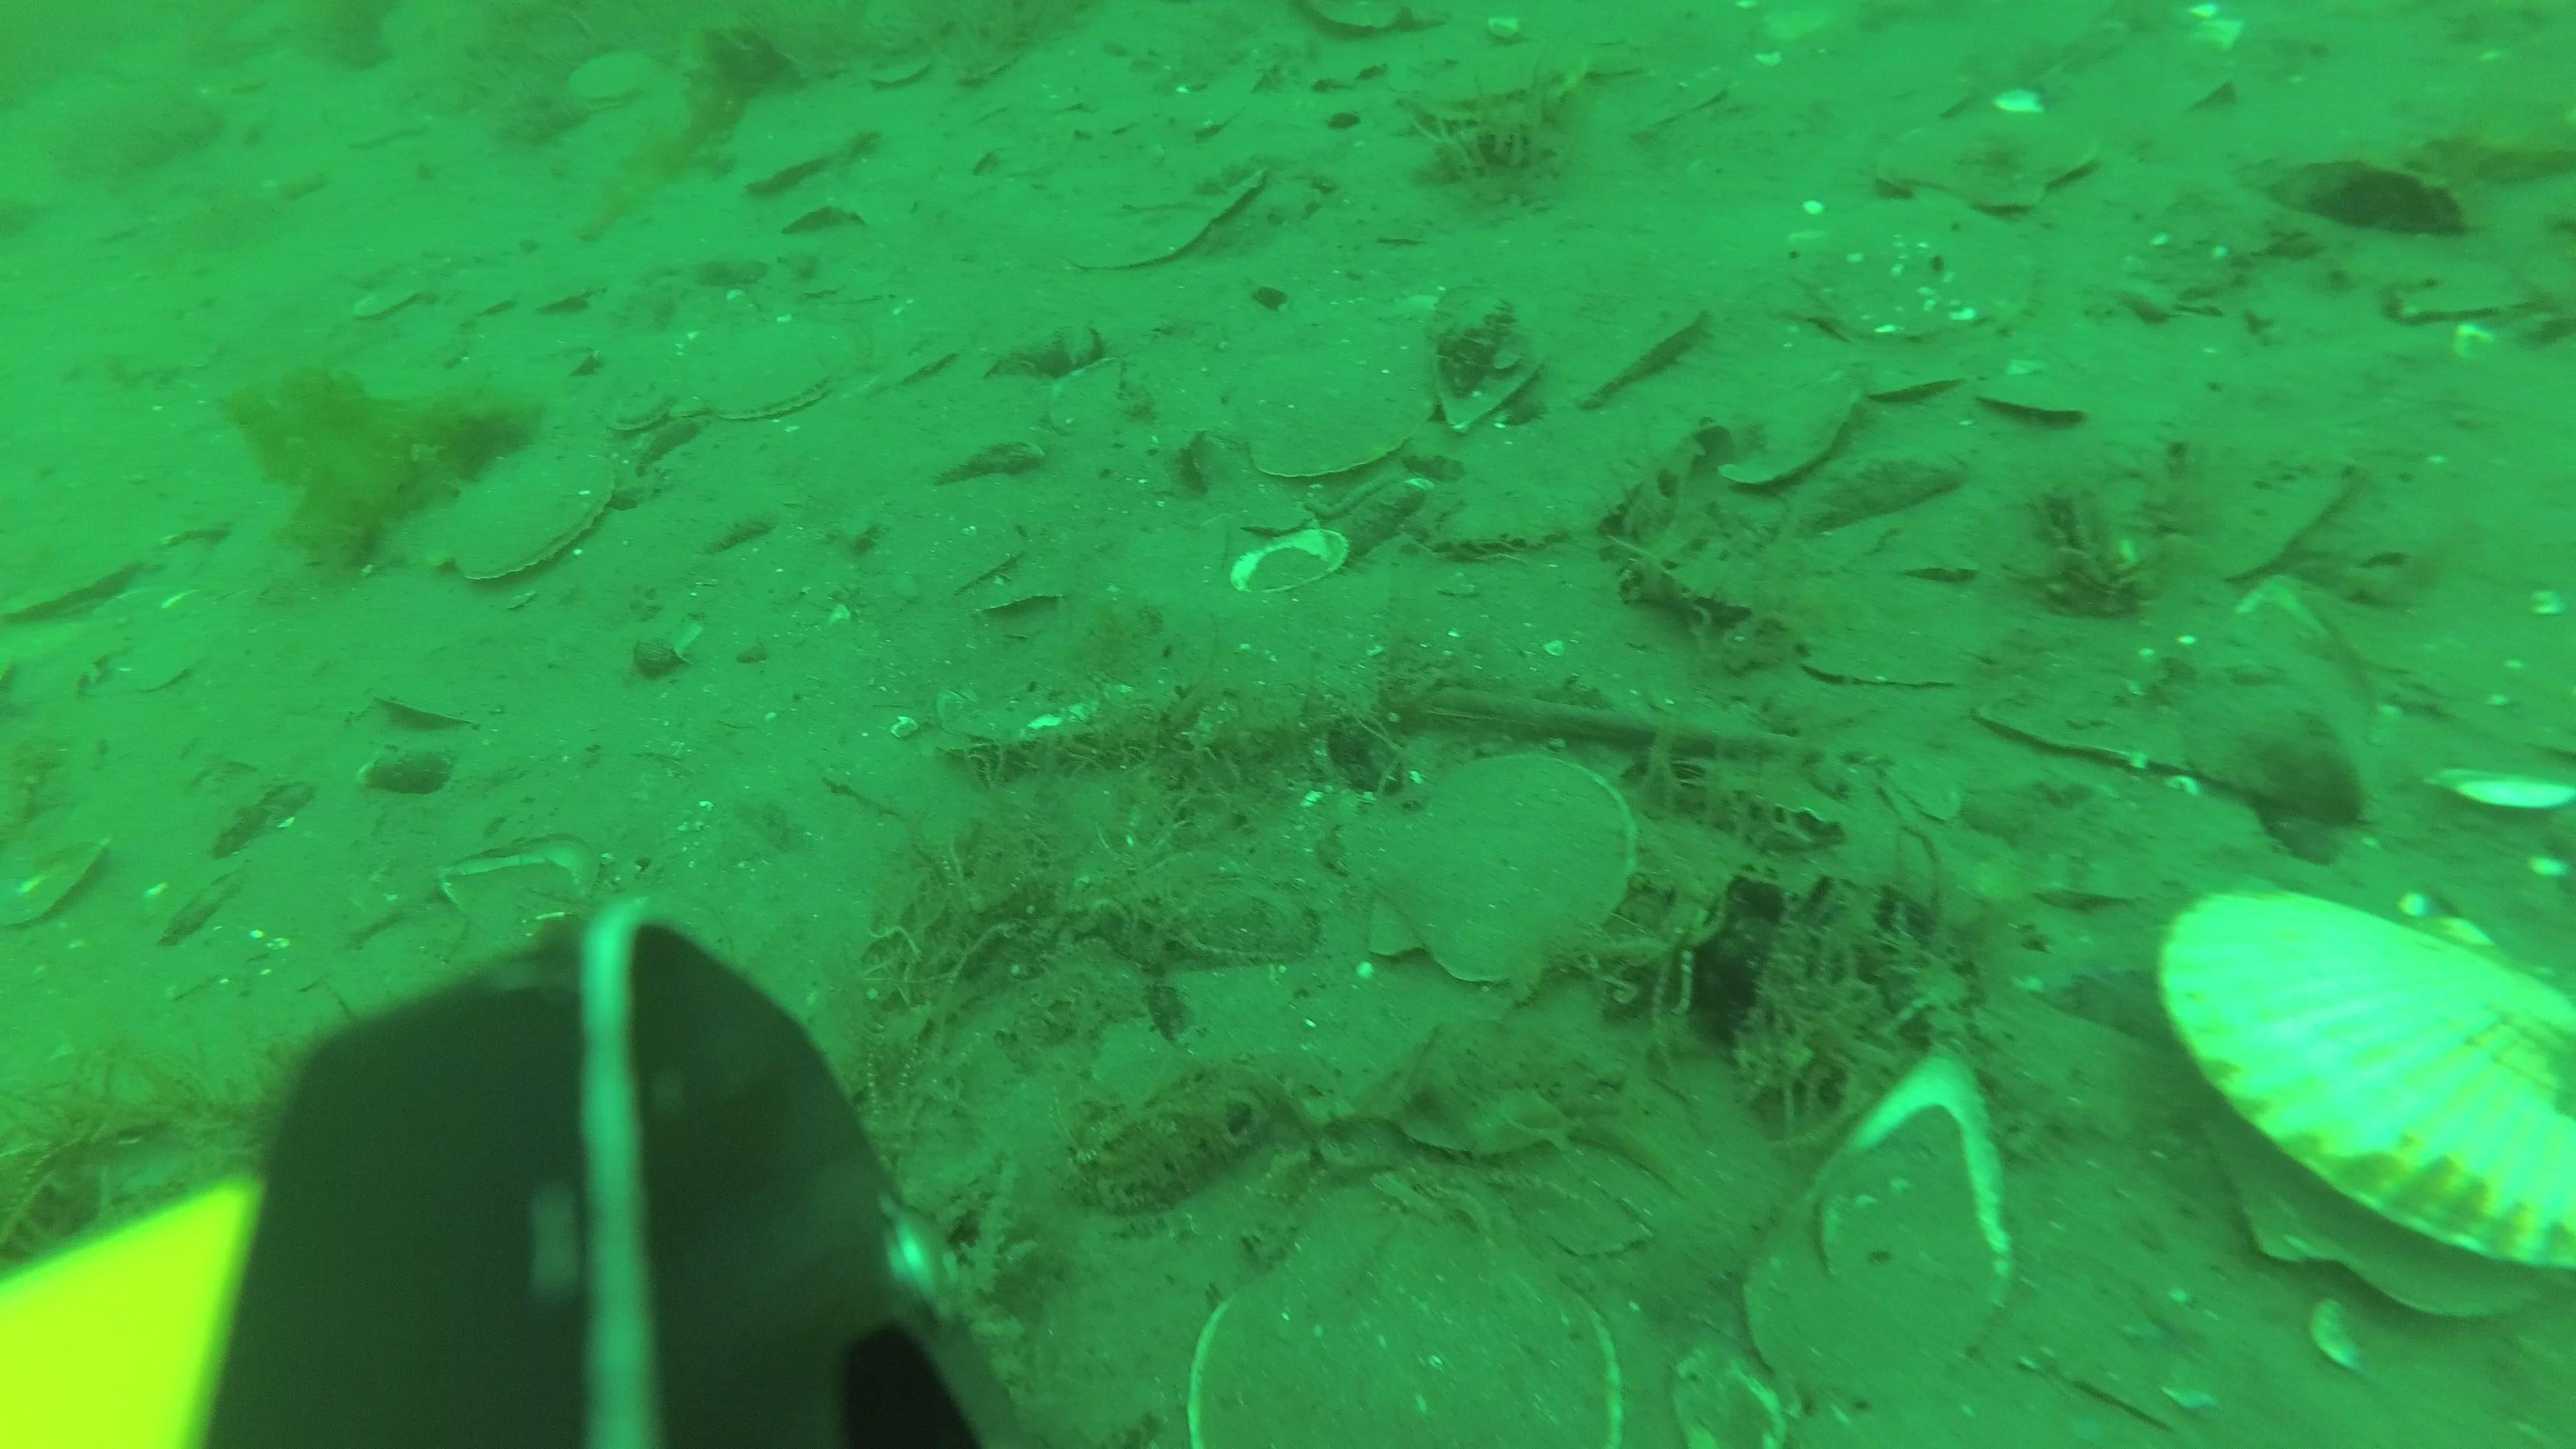scallop: (1355, 761, 1635, 1019), (1801, 182, 2024, 343), (1235, 322, 1435, 490), (430, 453, 616, 589), (1895, 103, 2089, 211), (1706, 361, 1849, 488), (1560, 290, 1704, 414), (697, 329, 851, 426), (738, 122, 890, 207), (7, 538, 140, 623), (1982, 359, 2093, 446), (570, 51, 660, 115), (602, 391, 685, 444)
